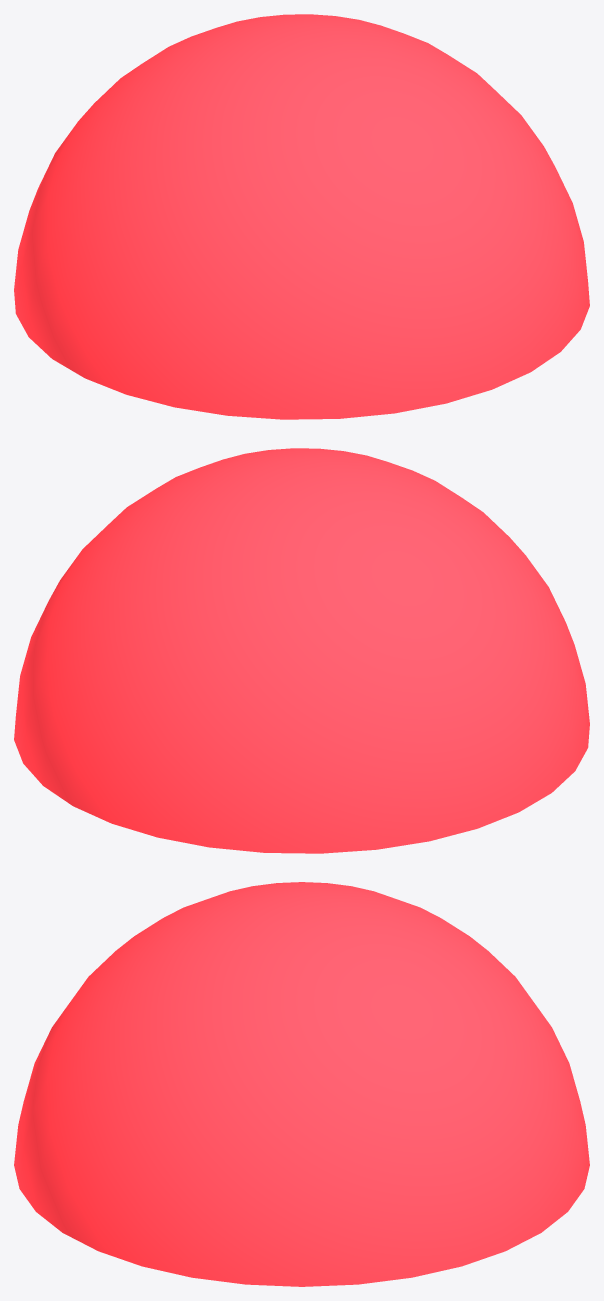
File: red-upper.glb
3 views of the same model, one above another, from view 1: azimuth 30°, elevation 25°; view 2: azimuth 150°, elevation 25°; view 3: azimuth 270°, elevation 25° (orthographic).
Parts seen in each view (by area): view 1: red-upper; view 2: red-upper; view 3: red-upper.
Part boxes in pixels (x1=…): red-upper: x1=14, y1=14, x2=589, y2=419; red-upper: x1=14, y1=448, x2=589, y2=853; red-upper: x1=14, y1=882, x2=589, y2=1286.
Bounding box in the file's own units: 2 × 0.982 × 2.
